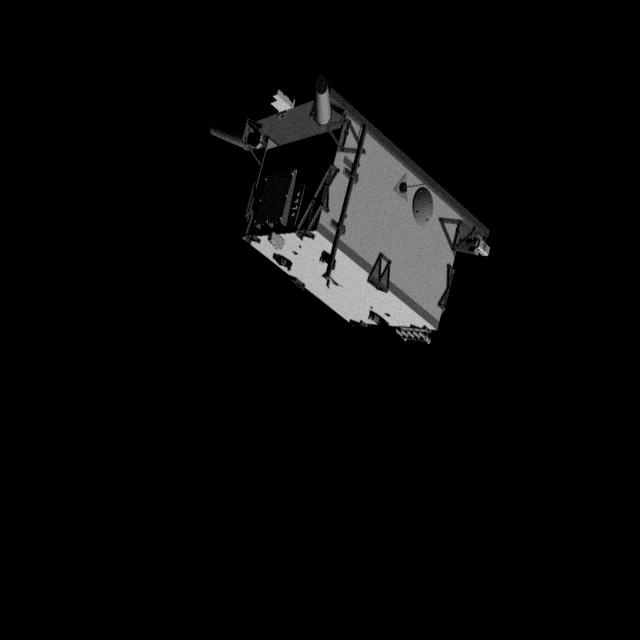satellite: (204, 74, 502, 354)
